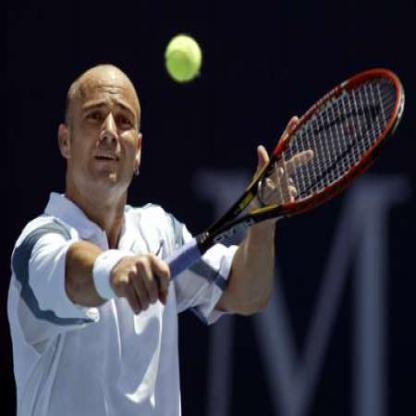face: (69, 67, 142, 197)
